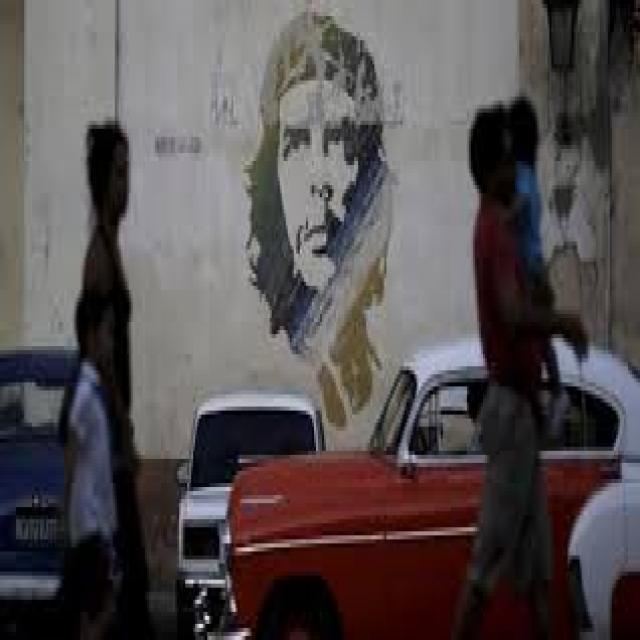-: (245, 7, 392, 434)
